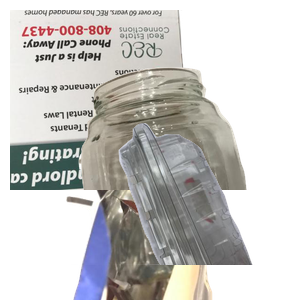glass: (74, 65, 300, 245)
paper: (10, 10, 201, 190)
plastic: (71, 120, 300, 300)
trash: (63, 120, 300, 300)
